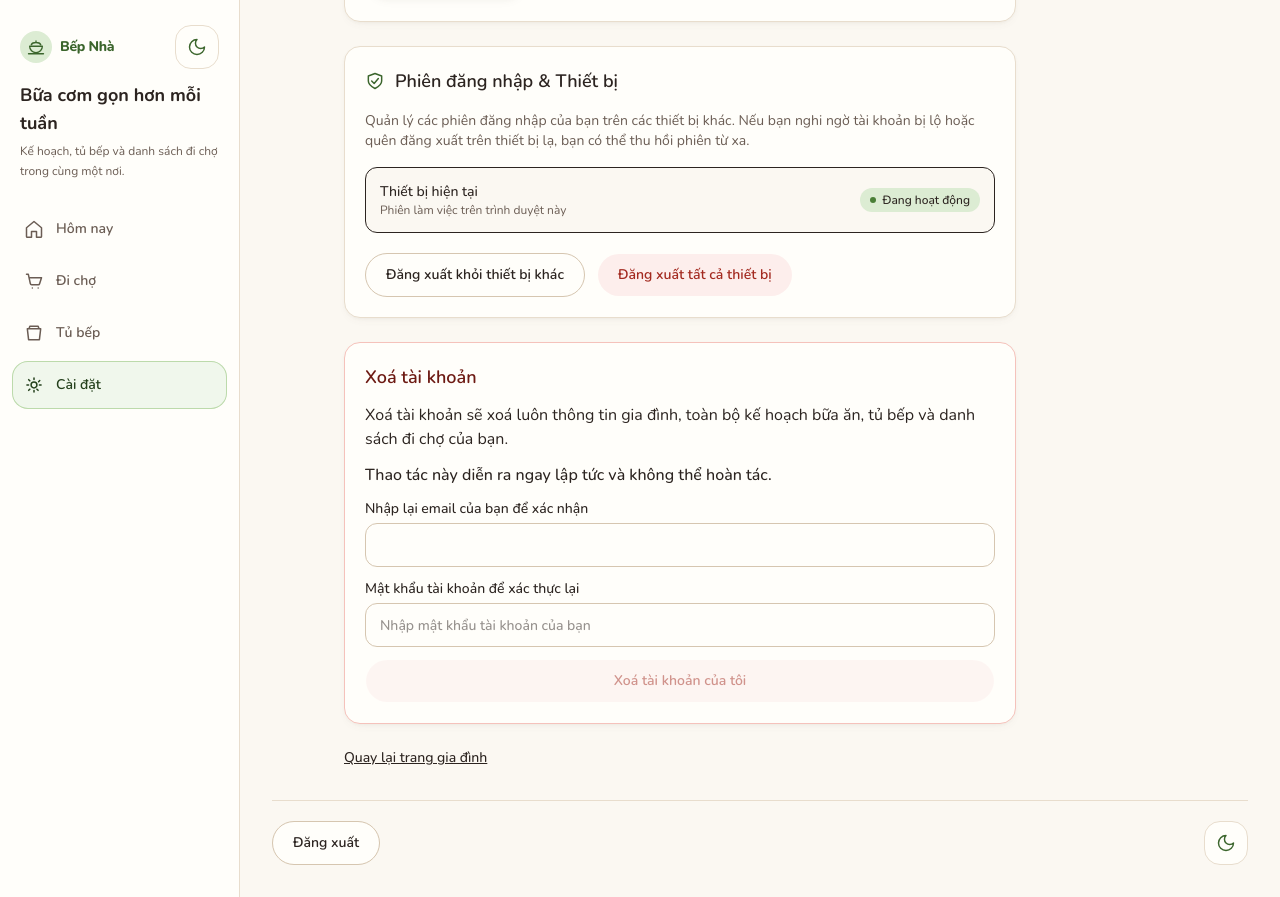
Test: account deletion › explains the ACCOUNT_DELETE_UNAVAILABLE outcome and stays on the page
(page scrolled)
Type "chu-nha@example.com" into the field labelled "Nhập lại email của bạn để xác nhận" at (680, 545), box [365, 523, 995, 567]
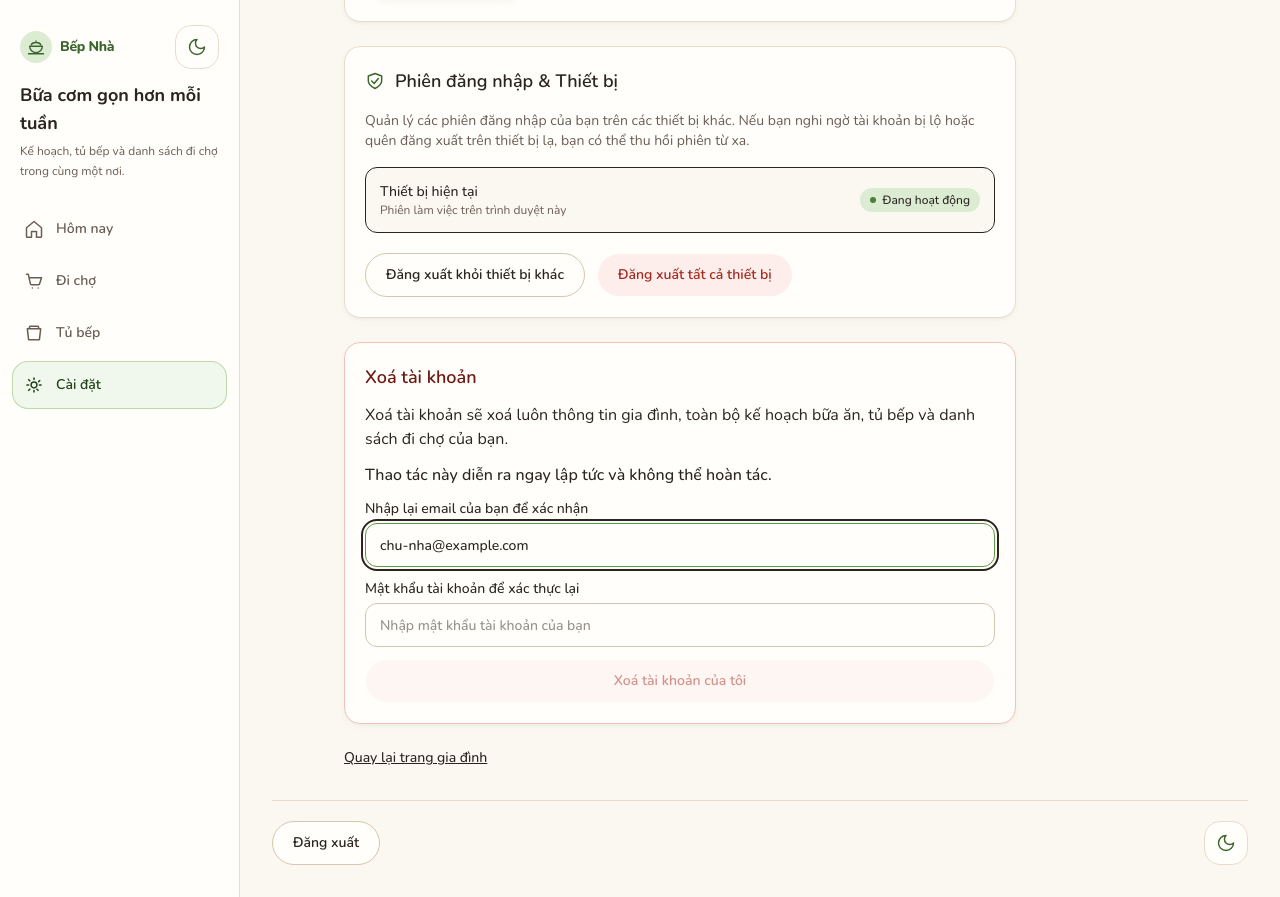
Type "my-password" into the password field labelled "Mật khẩu tài khoản để xác thực lại" at (680, 625), box [365, 603, 995, 647]
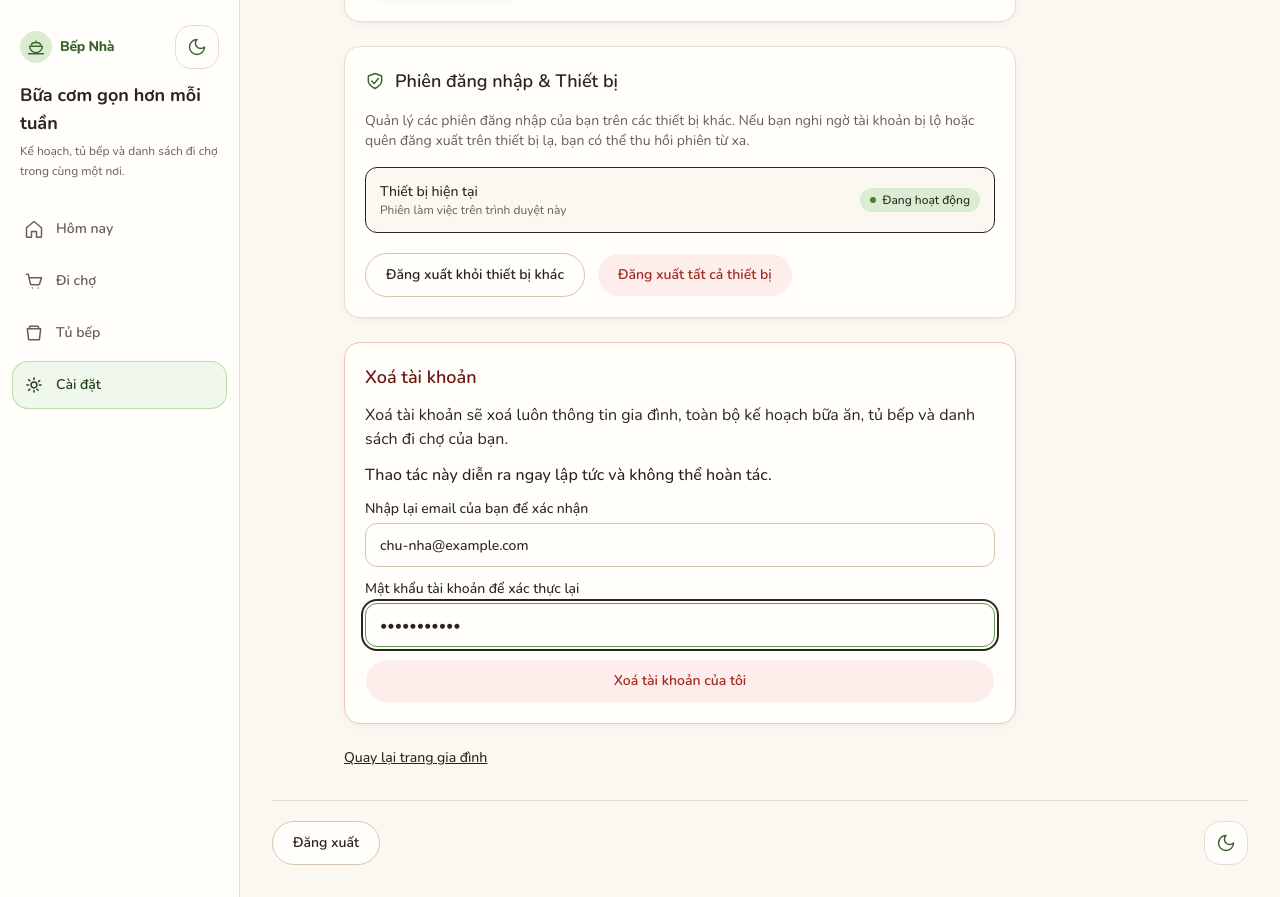
Click the button "Xoá tài khoản của tôi" at (680, 681), box [365, 659, 995, 703]
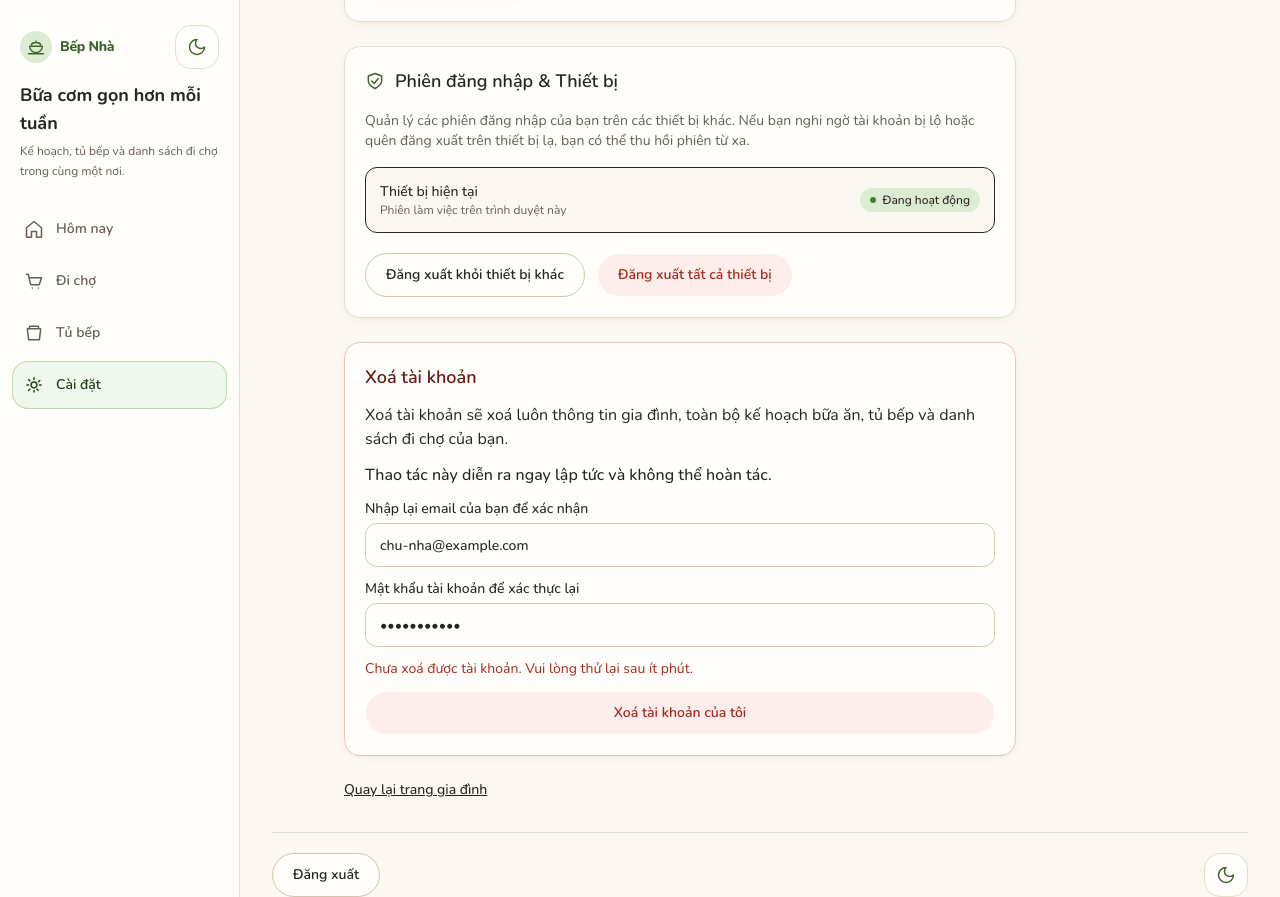
Result: the button "Xoá tài khoản của tôi" is enabled at [365, 691, 995, 735]
Result: the message shows "thử lại sau" at [365, 659, 693, 678]
